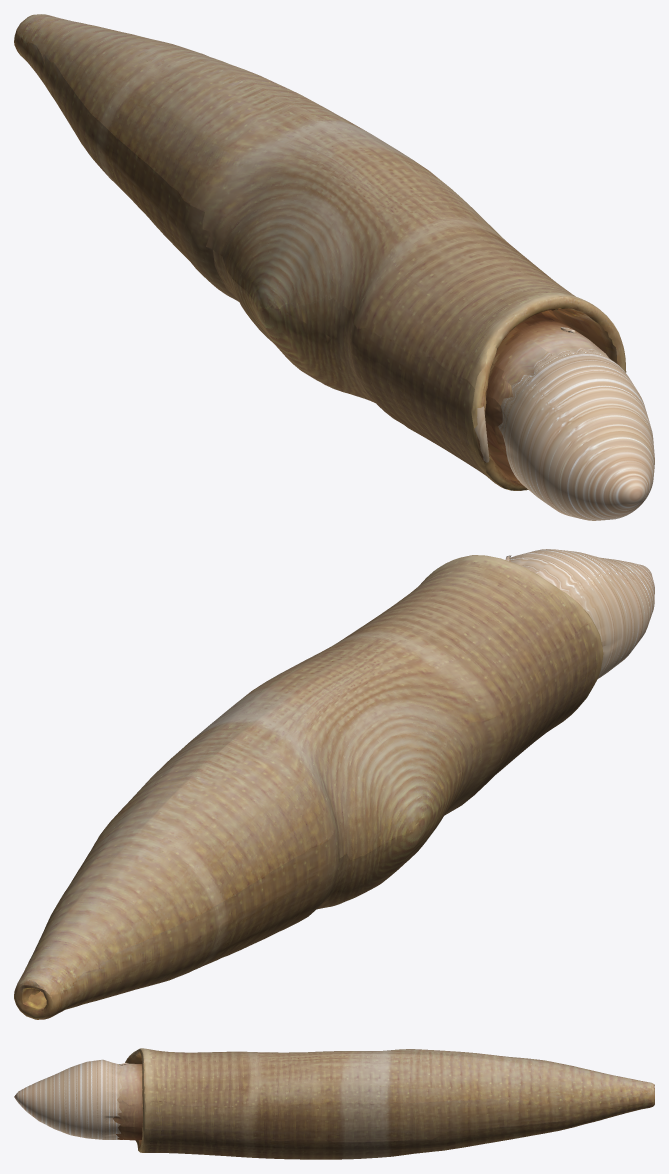
3 views of the same model, one above another, from view 1: azimuth 30°, elevation 25°; view 2: azimuth 150°, elevation 25°; view 3: azimuth 270°, elevation 25° (orthographic). The views are drawn at different scales.
Parts seen in each view (by area): view 1: world; view 2: world; view 3: world.
Part boxes in pixels (box(x1,y1,x2,y2)): world: box(14, 14, 654, 520); world: box(14, 549, 654, 1019); world: box(14, 1048, 654, 1159).
Size of the model in its own units: 0.1862 by 0.1828 by 0.9872.
2 materials, 2 textured.
